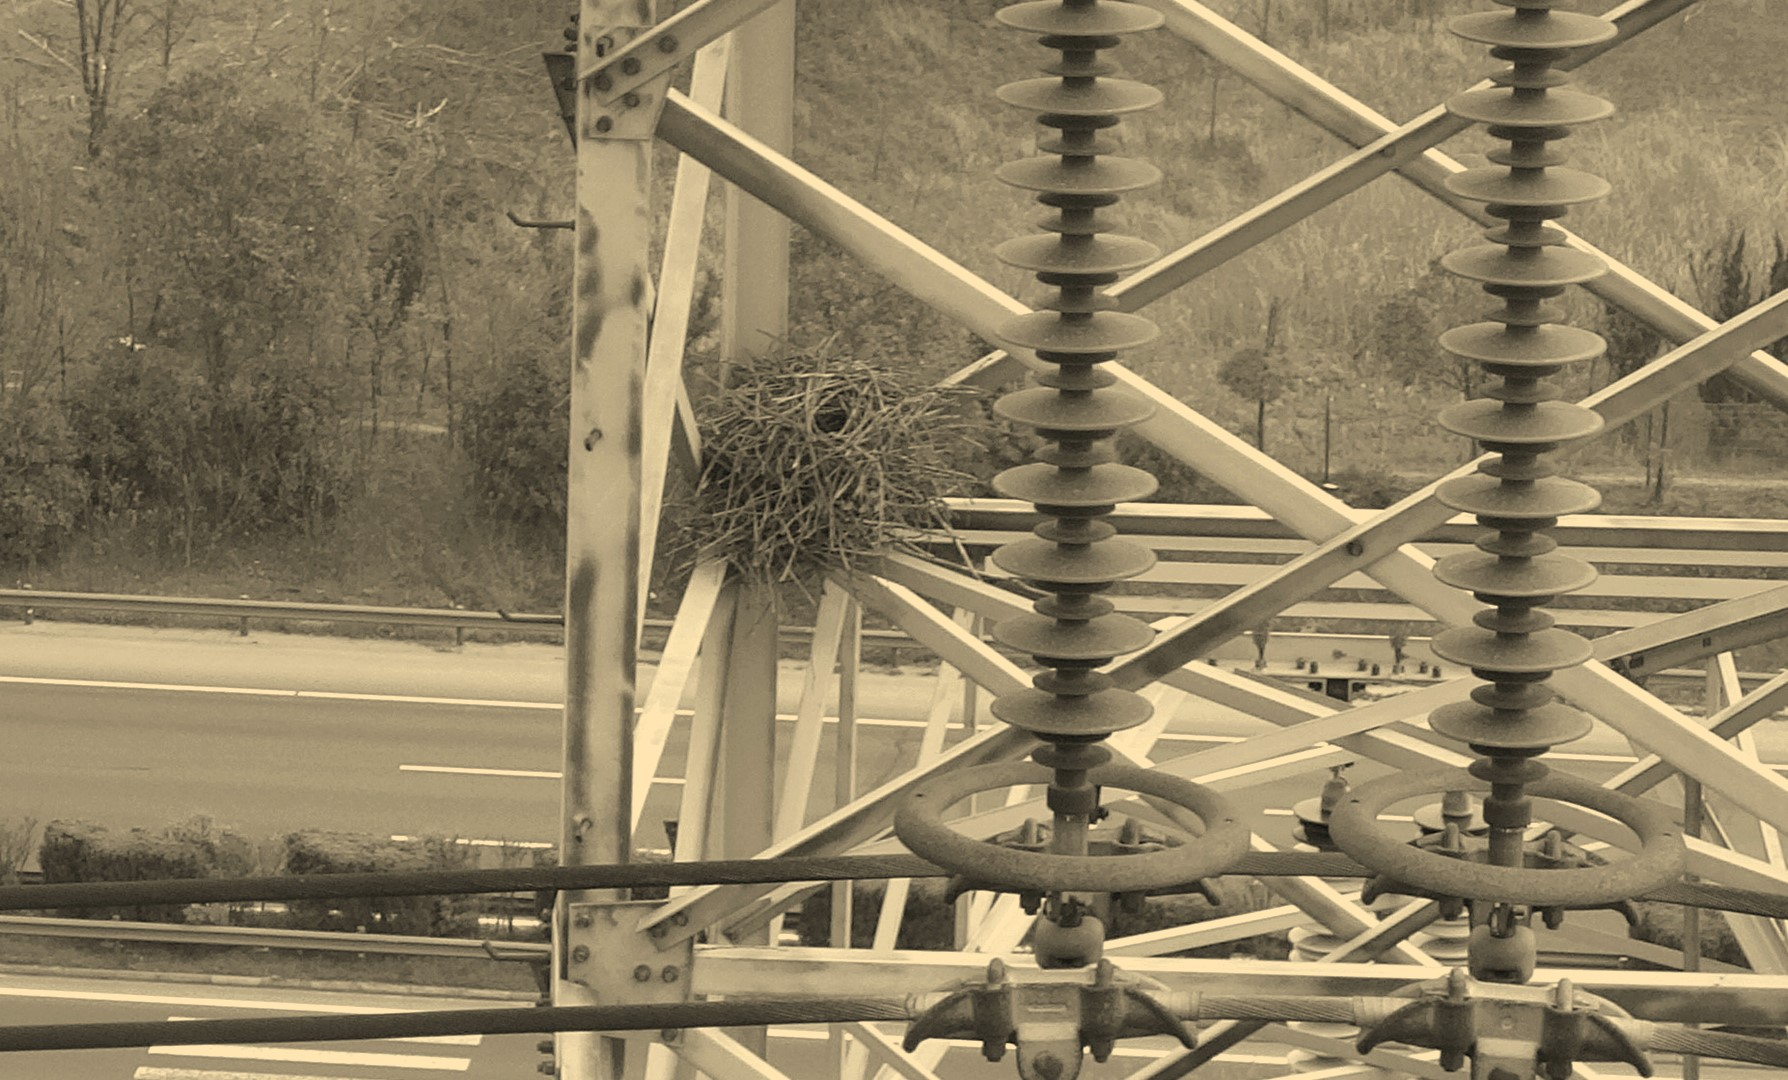niaowo: (664, 309, 957, 594)
